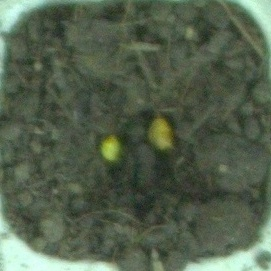chilli seed: (144, 113, 178, 154), (97, 132, 125, 163)
